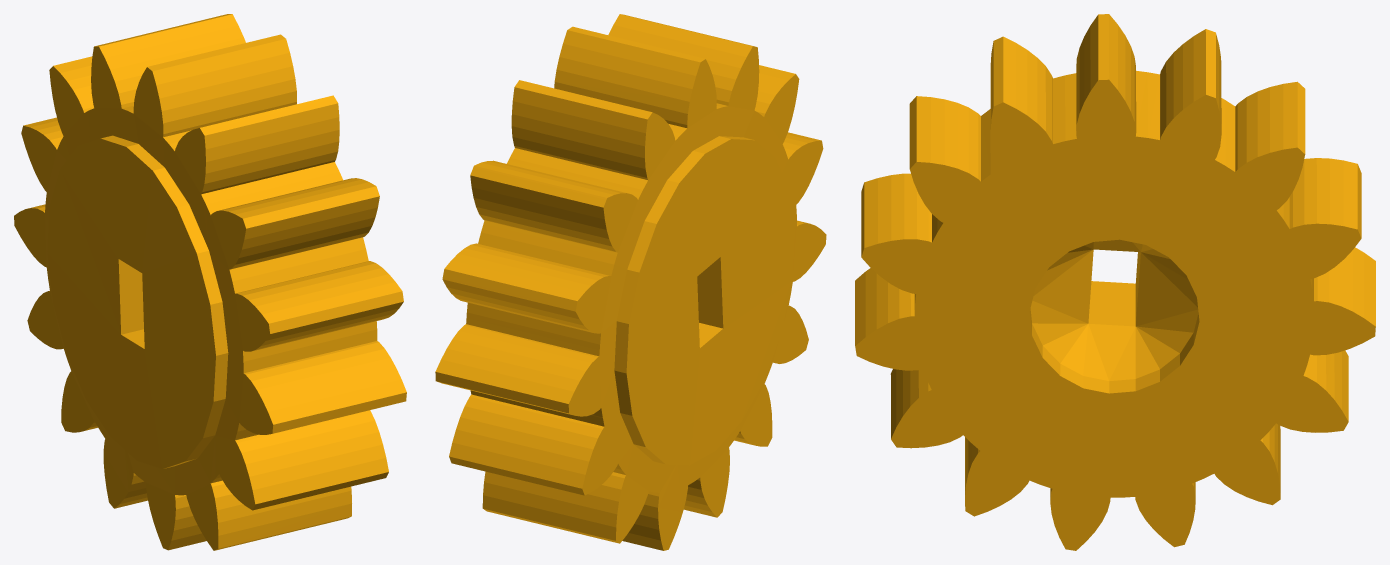
File: right_shoulder_z_link_visual_9.obj
The picture shows the model from 3 angles, left to right: view 1: azimuth 30°, elevation 25°; view 2: azimuth 150°, elevation 25°; view 3: azimuth 270°, elevation 25°; orthographic projection.
Visible parts, largest first — view 1: i01.rightArm.rotate.full.010_visual.001; view 2: i01.rightArm.rotate.full.010_visual.001; view 3: i01.rightArm.rotate.full.010_visual.001.
Part boxes in pixels (x1,y1,x2,y2): i01.rightArm.rotate.full.010_visual.001: (14,14,406,550); i01.rightArm.rotate.full.010_visual.001: (435,14,826,550); i01.rightArm.rotate.full.010_visual.001: (855,14,1375,550).
Size of the model in its own units: 0.0675 by 0.2062 by 0.2064.
